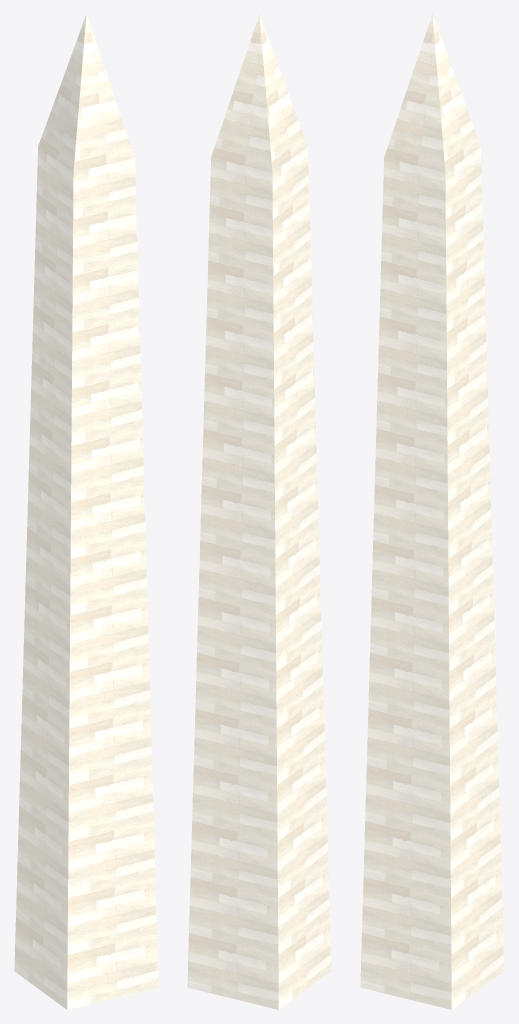
File: washmon.glb
The picture shows the model from 3 angles, left to right: view 1: azimuth 30°, elevation 25°; view 2: azimuth 150°, elevation 25°; view 3: azimuth 330°, elevation 25°; orthographic projection.
Parts seen in each view (by area): view 1: Buffer Object 1; view 2: Buffer Object 1; view 3: Buffer Object 1.
Part boxes in pixels (bbox=[...]): Buffer Object 1: bbox=[14, 14, 158, 1009]; Buffer Object 1: bbox=[187, 14, 331, 1009]; Buffer Object 1: bbox=[360, 14, 504, 1009].
Bounding box in the file's own units: 16.76 × 169 × 16.76.
1 material, 1 textured.
